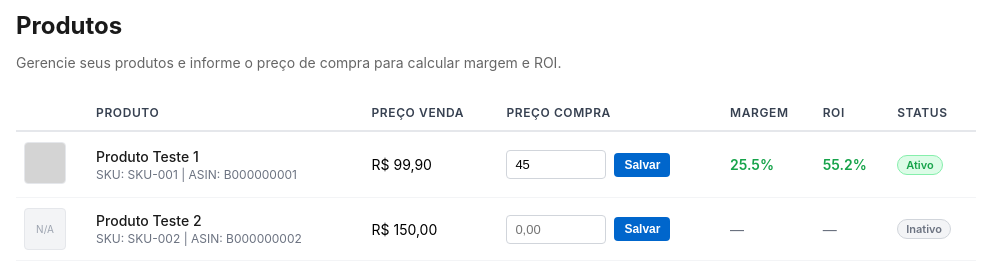
Test: ProductsPage › saves cost price on Enter key press
The width and height of the screenshot is (993, 278).
expect the text "Produto Teste 2" is shown: met, box x1=96 y1=212 x2=202 y2=229
Type "60" into the field with placeholder "0,00" at (556,229), box x1=506 y1=215 x2=606 y2=244
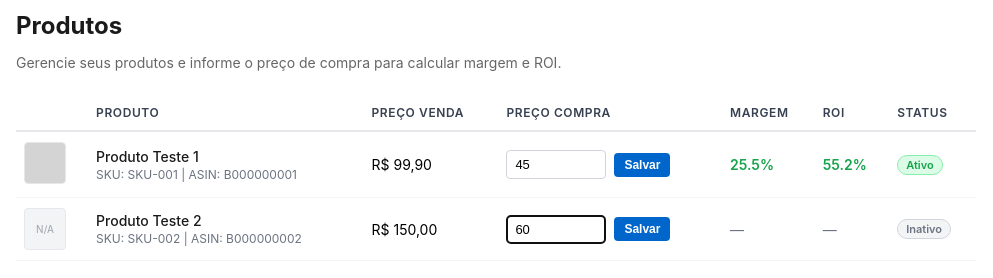
Press Enter
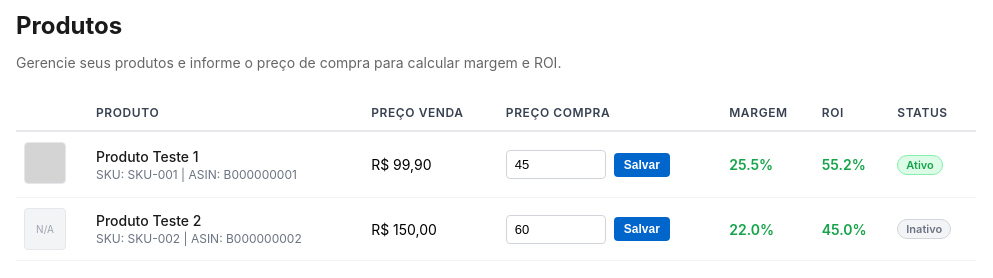
expect the text "22.0%" is shown: met, box x1=729 y1=221 x2=774 y2=238
